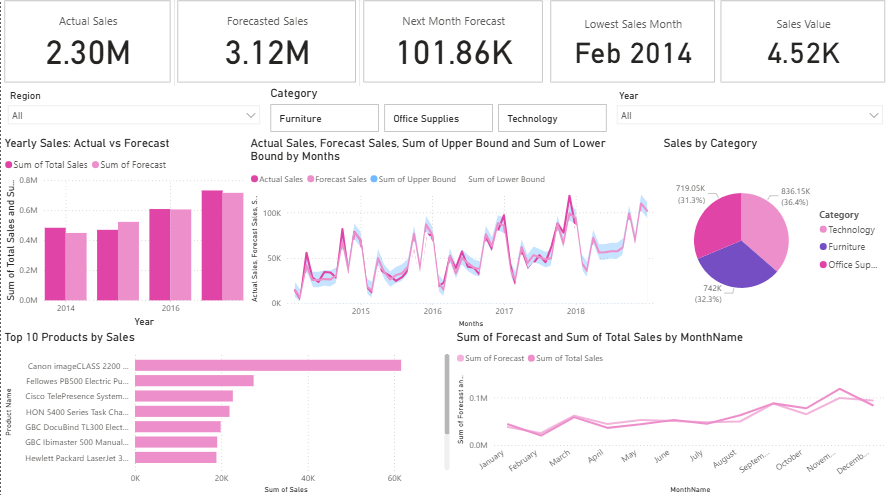

Layout of this report page (visuals, bound fields, positions):
{"tool":"powerbi","page":{"name":"Page 1","canvas":[1280,720],"ordinal":0},"visuals":[{"type":"lineChart","fields":{"Y":["Sum(MonthlyActuals.Total Sales)","Sum(forecast_results.Forecast)","Sum(forecast_results.Upper Bound)","Sum(forecast_results.Lower Bound)"],"Category":["forecast_results.MonthEnd"]},"box":[354.3,200,594.3,280],"z":0},{"type":"clusteredColumnChart","title":"Yearly Sales: Actual vs Forecast","fields":{"Y":["Sum(MonthlyActuals.Total Sales)","Sum(forecast_results.Forecast)"],"Category":["MonthlyActuals.Year"]},"box":[0,200,354.3,280],"z":1000},{"type":"lineChart","fields":{"Category":["forecast_results.MonthName"],"Y":["Sum(forecast_results.Forecast)","Sum(MonthlyActuals.Total Sales)"]},"box":[651.4,480,628.6,240],"z":2000},{"type":"cardVisual","title":"Total Actual Sales","fields":{"Data":["Sum(MonthlyActuals.Total Sales)"]},"box":[0,0,249.7,129],"z":3000},{"type":"cardVisual","title":"Total Forecasted Sales","fields":{"Data":["Sum(forecast_results.Forecast)"]},"box":[249.7,0,267.6,129],"z":4000},{"type":"cardVisual","title":"Next Month Forecast","fields":{"Data":["Sum(forecast_results.Forecast)"]},"box":[517.3,0,269,129],"z":5000},{"type":"clusteredBarChart","title":"Top 10 Products by Sales","fields":{"Category":["Superstore.Product Name"],"Y":["Sum(Superstore.Sales)"]},"box":[0,480,651.4,240],"z":6000},{"type":"cardVisual","fields":{"Data":["MonthlyActuals.LowestMonthName","MonthlyActuals.LowestMonth"]},"box":[786.3,0,494,129],"z":7000},{"type":"pieChart","fields":{"Category":["Superstore.Category"],"Y":["Sum(Superstore.Sales)"]},"box":[948.6,200,331.4,280],"z":8000},{"type":"advancedSlicerVisual","fields":{"Values":["Superstore.Category"]},"box":[382.9,128.6,494.3,71.4],"z":9000},{"type":"slicer","fields":{"Values":["Superstore.Region"]},"box":[0,128.6,382.9,71.4],"z":10000},{"type":"slicer","fields":{"Values":["forecast_results.Year"]},"box":[877.1,128.6,402.9,71.4],"z":11000}]}

Visuals, with their boxes in screenshot pixels (x1, y1, x2, y2), scaled from the page's 1280x720 canvas onto the 888x495 screenshot:
lineChart - Sum(MonthlyActuals.Total Sales) x Sum(forecast_results.Forecast): BBox(246, 138, 658, 330)
"Yearly Sales: Actual vs Forecast" clusteredColumnChart: BBox(0, 138, 246, 330)
lineChart - forecast_results.MonthName x Sum(forecast_results.Forecast): BBox(452, 330, 887, 494)
"Total Actual Sales" cardVisual: BBox(0, 0, 173, 89)
"Total Forecasted Sales" cardVisual: BBox(173, 0, 359, 89)
"Next Month Forecast" cardVisual: BBox(359, 0, 545, 89)
"Top 10 Products by Sales" clusteredBarChart: BBox(0, 330, 452, 494)
cardVisual - MonthlyActuals.LowestMonthName x MonthlyActuals.LowestMonth: BBox(545, 0, 887, 89)
pieChart - Superstore.Category x Sum(Superstore.Sales): BBox(658, 138, 887, 330)
advancedSlicerVisual - Superstore.Category: BBox(266, 88, 609, 138)
slicer - Superstore.Region: BBox(0, 88, 266, 138)
slicer - forecast_results.Year: BBox(608, 88, 887, 138)
